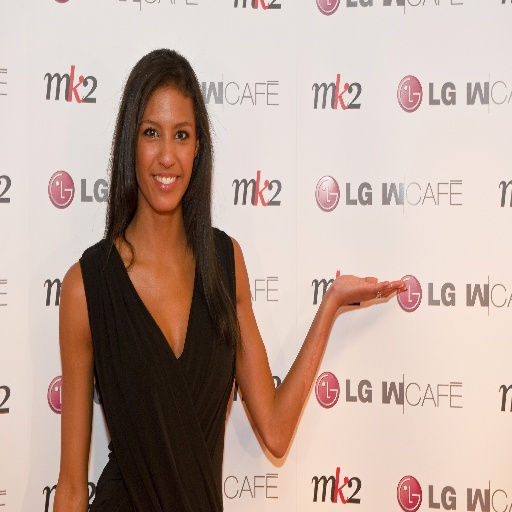hand: (297, 279, 417, 366)
